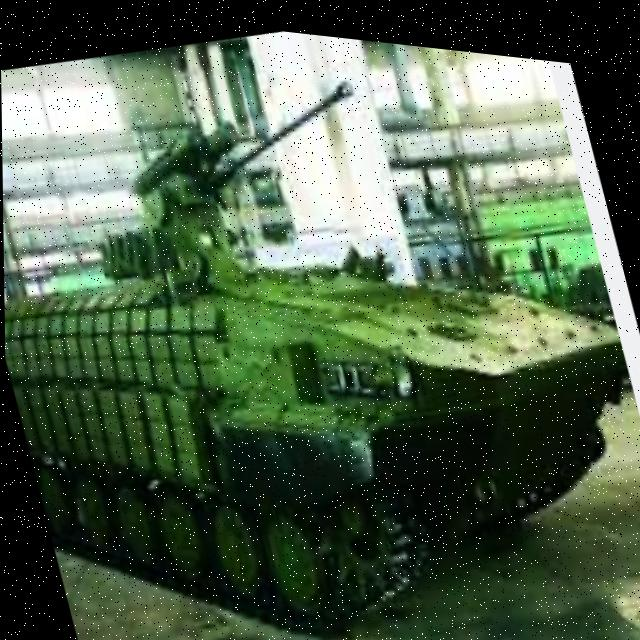MIL_APC: (1, 69, 640, 640)
